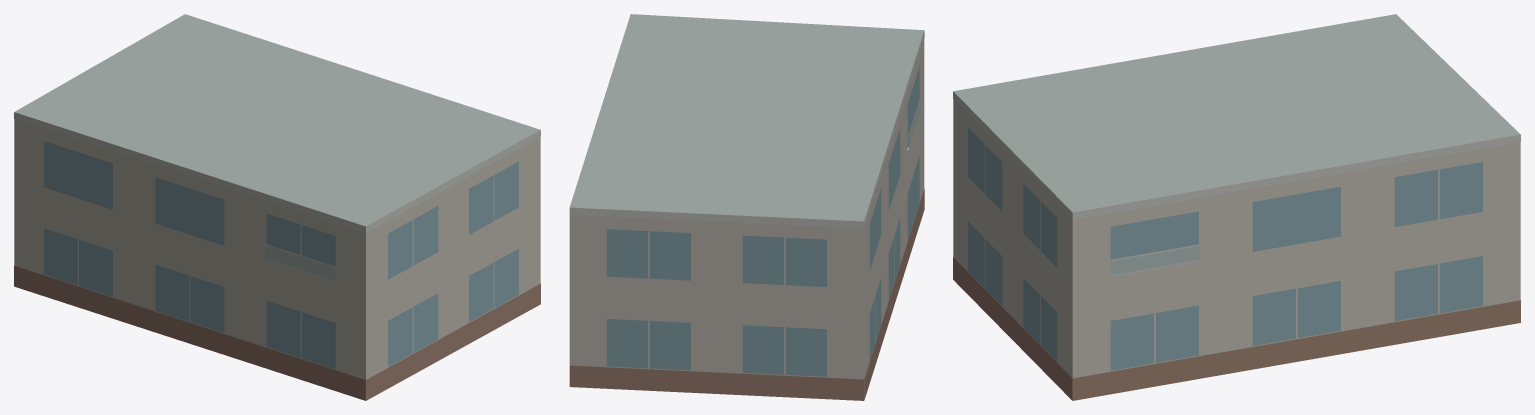
Rendered from survey-upis-32818892.glb.
The picture shows the model from 3 angles, left to right: view 1: azimuth 30°, elevation 25°; view 2: azimuth 150°, elevation 25°; view 3: azimuth 270°, elevation 25°; orthographic projection. The views are drawn at different scales.
Visible parts, largest first — view 1: survey-upis-32818892.tmp; view 2: survey-upis-32818892.tmp; view 3: survey-upis-32818892.tmp.
Part boxes in pixels (<box>): survey-upis-32818892.tmp: <box>14,14,540,400</box>; survey-upis-32818892.tmp: <box>569,14,924,400</box>; survey-upis-32818892.tmp: <box>953,14,1520,400</box>.
Bounding box in the file's own units: 13.8 × 6.1 × 16.67.
